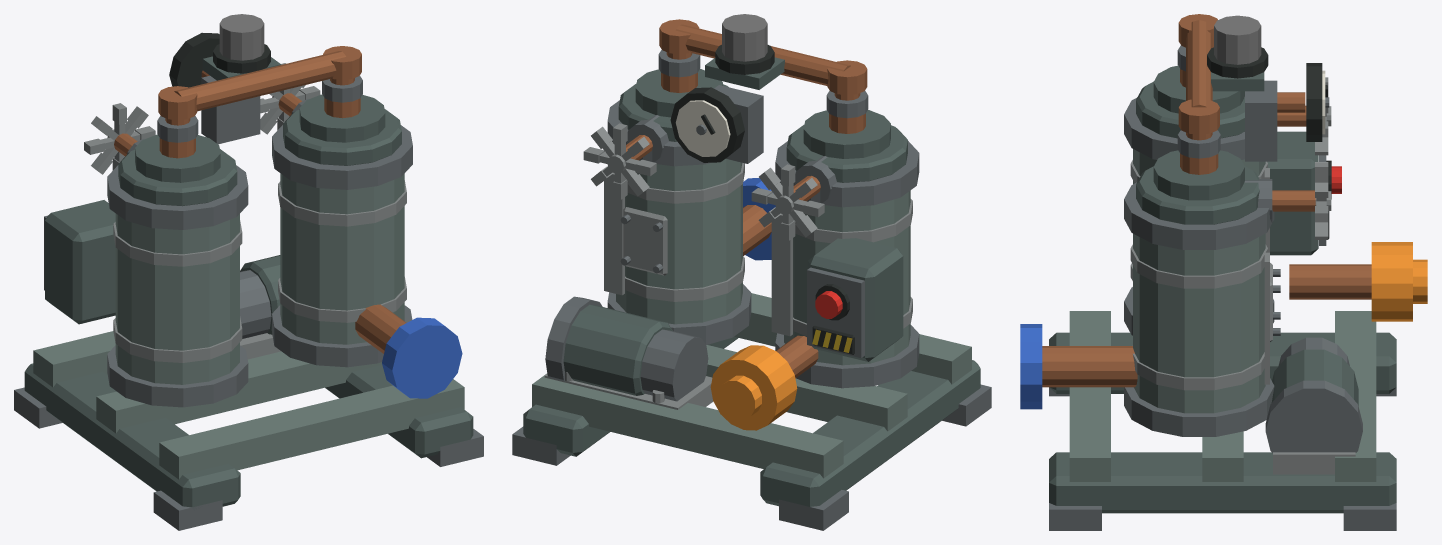
File: purifier.glb
3 views of the same model, side by side, from view 1: azimuth 30°, elevation 25°; view 2: azimuth 150°, elevation 25°; view 3: azimuth 270°, elevation 25° (orthographic). The views are drawn at different scales.
Visible parts, largest first — view 1: purifier, Lamp; view 2: purifier, Lamp; view 3: purifier, Lamp.
Boxes of the visible parts, x1,y1,x2,y2 form: purifier: (14, 32, 483, 530); Lamp: (219, 14, 264, 60); purifier: (512, 19, 991, 530); Lamp: (722, 14, 767, 61); purifier: (1020, 14, 1427, 530); Lamp: (1214, 15, 1261, 64).
Size of the model in its own units: 1.3 by 1.6 by 1.38.
